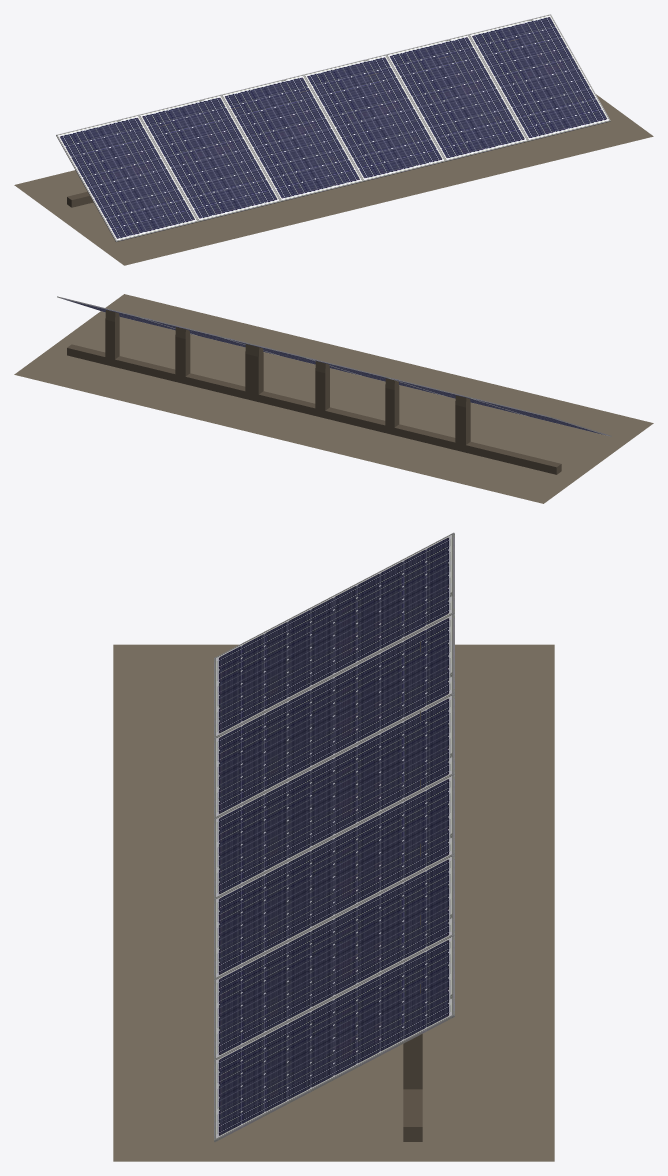
File: solar.glb
3 renders of one model, top to bottom at view 1: azimuth 30°, elevation 25°; view 2: azimuth 150°, elevation 25°; view 3: azimuth 270°, elevation 25°, orthographic. The views are drawn at different scales.
Visible parts, largest first — view 1: 平面, 平面.001; view 2: 平面.001, 立方体, 平面; view 3: 平面.001, 平面, 立方体.
Part boxes in pixels (bbox=[...]): 平面: bbox=[56, 14, 610, 241]; 平面.001: bbox=[14, 94, 653, 265]; 平面.001: bbox=[14, 294, 653, 503]; 立方体: bbox=[67, 310, 561, 474]; 平面: bbox=[57, 296, 611, 436]; 平面.001: bbox=[113, 644, 554, 1161]; 平面: bbox=[214, 532, 454, 1141]; 立方体: bbox=[403, 641, 422, 1141].
Bounding box in the file's own units: 12.85 × 1.49 × 4.64.
Materials: 3 (1 with a texture image).
